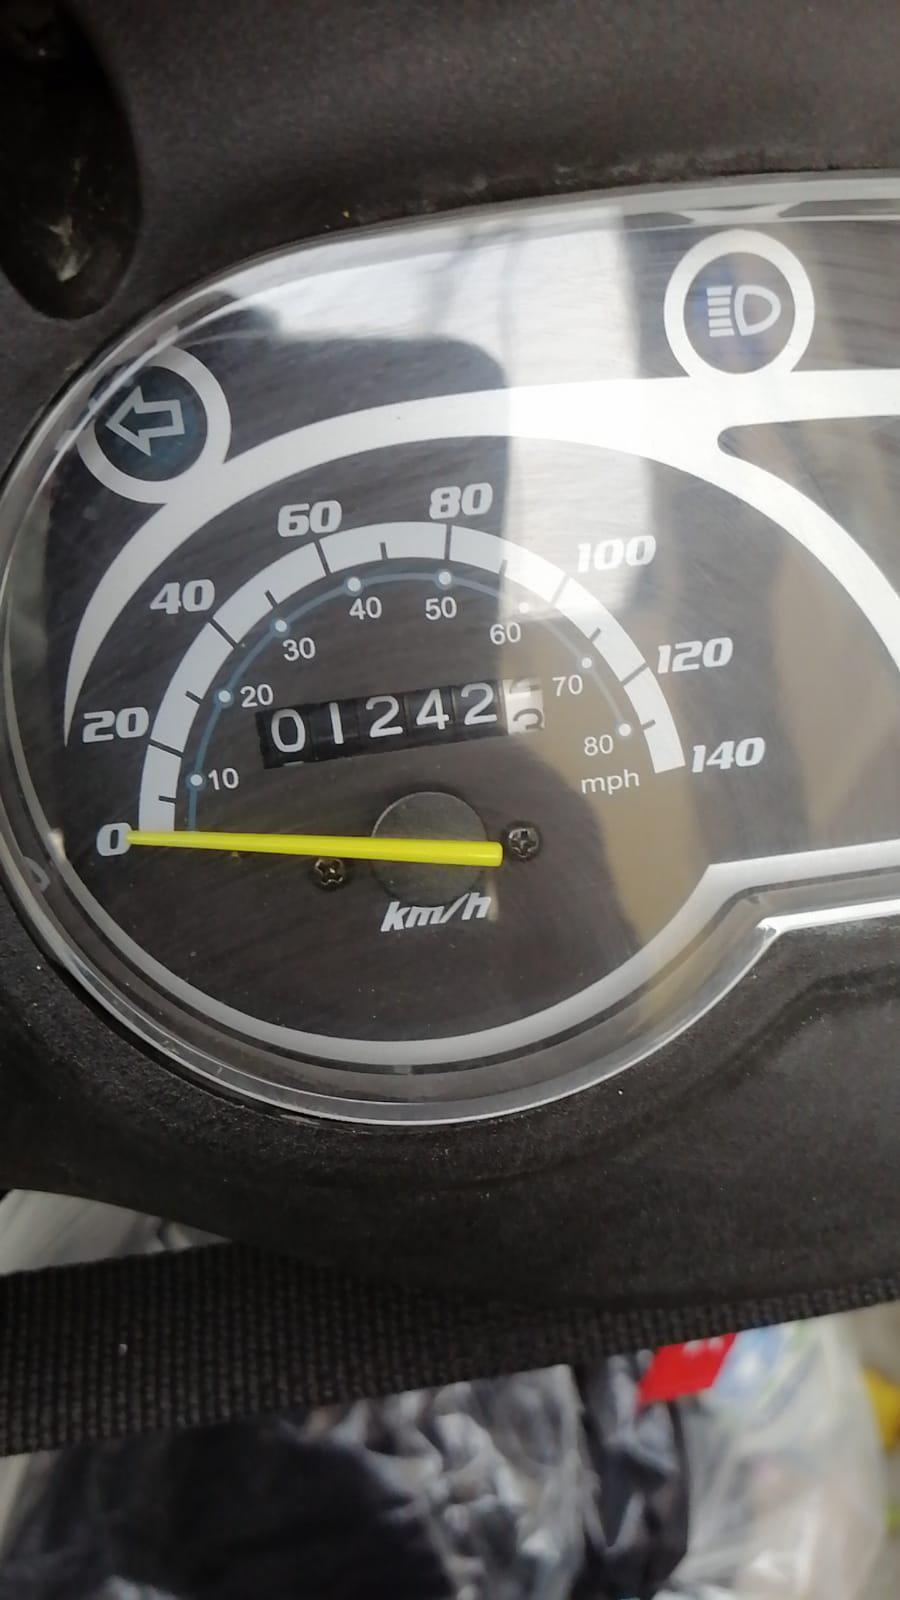0: (265, 709, 309, 754), (255, 684, 275, 707)
1: (324, 692, 348, 754)
2: (362, 688, 407, 743), (457, 674, 499, 732)
3: (512, 707, 547, 744)
4: (414, 684, 452, 734)
odometer: (253, 670, 549, 775)
